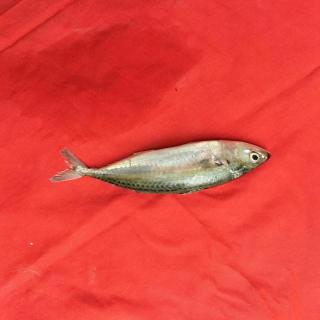Ikan: (46, 127, 281, 213)
